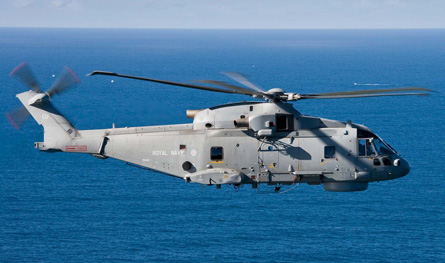Merlin: (9, 64, 416, 197)
